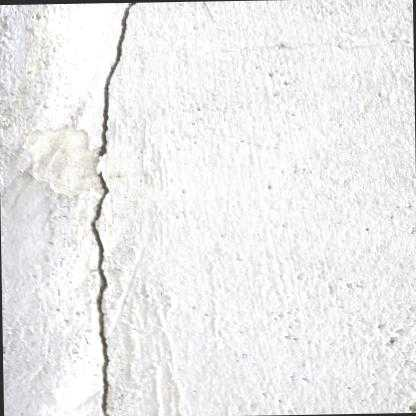crack: (90, 1, 136, 416)
